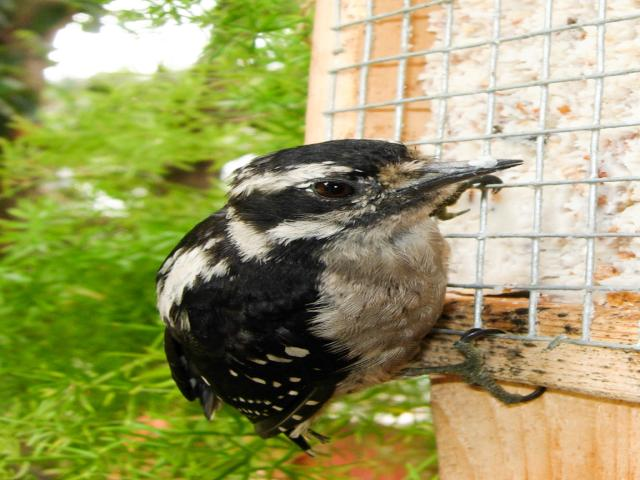Bird: (153, 138, 546, 457)
